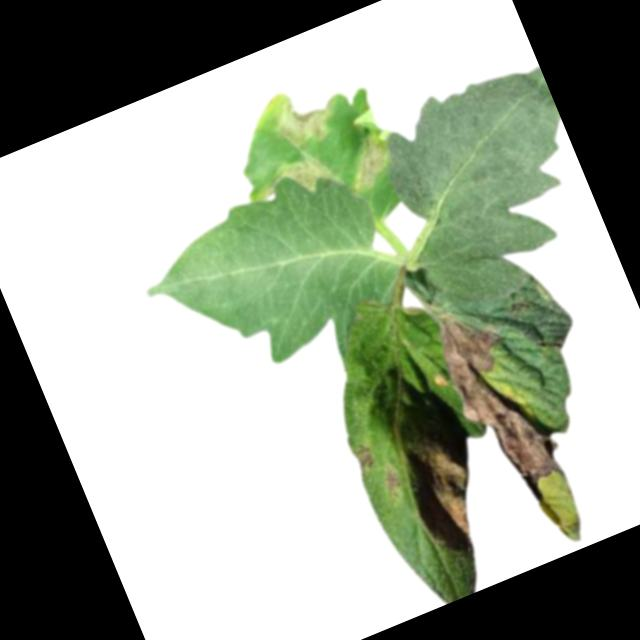Late_blight: (429, 300, 576, 515), (394, 427, 494, 564), (249, 142, 346, 213), (265, 77, 349, 154), (334, 123, 399, 194), (350, 440, 378, 473), (381, 464, 405, 492)
